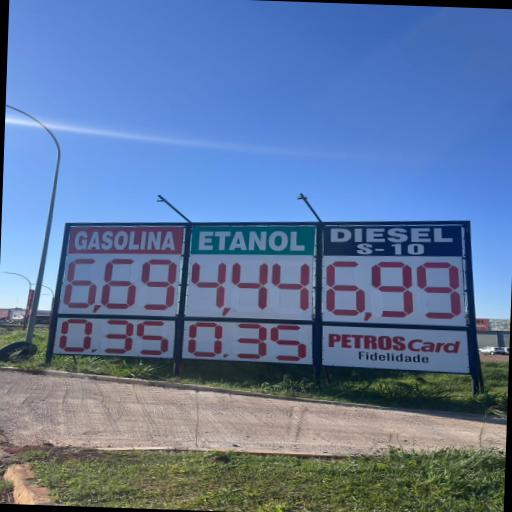ETANOL: (193, 227, 312, 255)
GASOLINA C: (68, 225, 182, 255)
S10: (325, 226, 461, 256)
placa: (51, 222, 476, 329)
preco: (321, 257, 462, 324), (189, 256, 314, 318), (60, 255, 180, 311)
